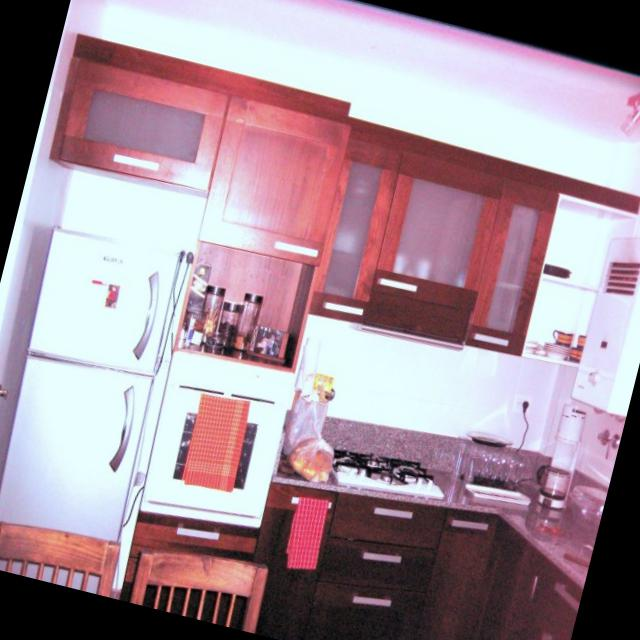2036: (275, 442, 598, 587)
ceiling beam: (107, 0, 640, 144)
chair cushion: (131, 552, 268, 631), (0, 520, 119, 596)
coffee marker occluded: (537, 411, 584, 512)
cupboard: (254, 483, 337, 640)
cupboard crop: (51, 55, 350, 368), (417, 509, 501, 640), (475, 518, 550, 640)
cupboards: (313, 118, 640, 368)
dishcloth: (183, 393, 248, 488), (289, 496, 329, 567)
door bars: (0, 49, 60, 397)
drawers crop: (308, 492, 447, 640)
drawers occluded: (531, 563, 582, 640)
extractor hood: (365, 290, 471, 349)
fridge: (0, 226, 182, 537)
heater: (571, 238, 640, 415)
oven cloth: (140, 351, 298, 529)
stove burner: (332, 447, 444, 497)
tray occluded: (467, 479, 530, 499)
wall clock: (0, 2, 622, 640), (501, 140, 640, 640), (0, 0, 105, 467)
